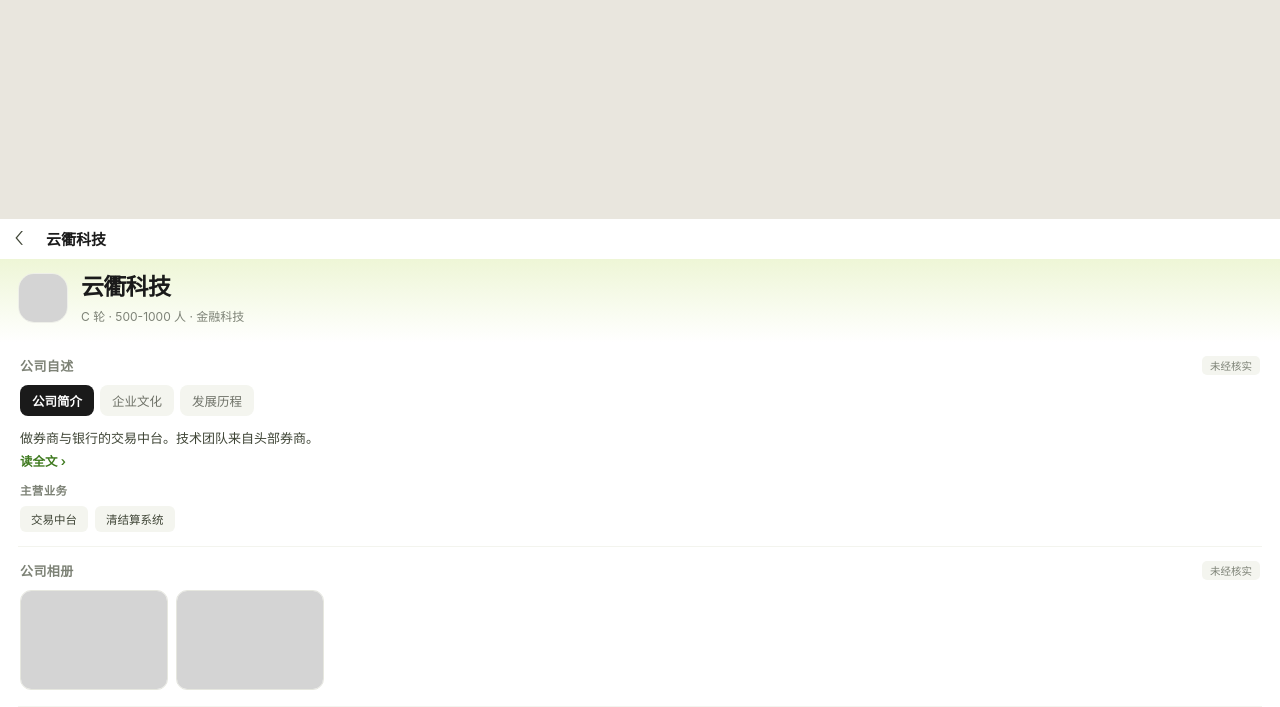
Test: 企业公开页展示 · 主屏与公司自述 › 有数据的 Tab 显示原事实；历程用年份+事件拼接
(page scrolled)
Expected: the text "做券商与银行的交易中台。技术团队来自头部券商。" is shown, [20,430,319,446]
Click the button "发展历程".
click(217, 400)  # box [180,385,254,416]
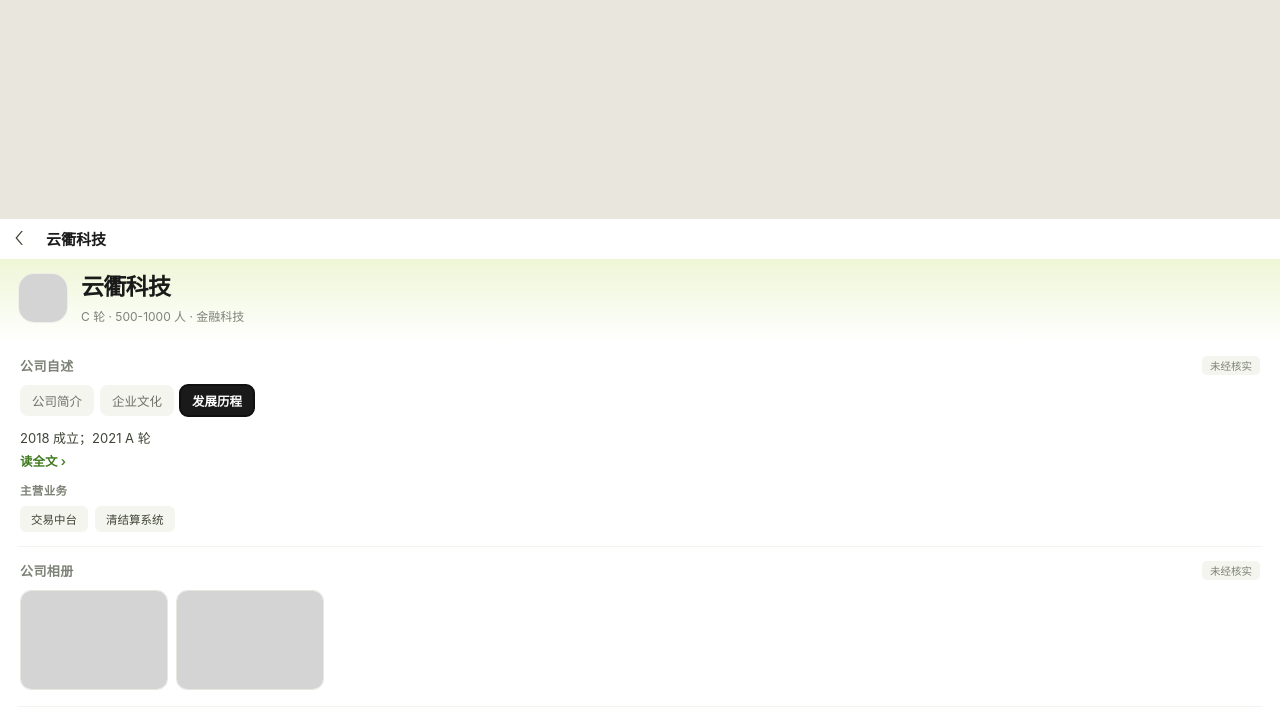
Now the text "2018 成立；2021 A 轮" is shown, box [20,430,151,446]
